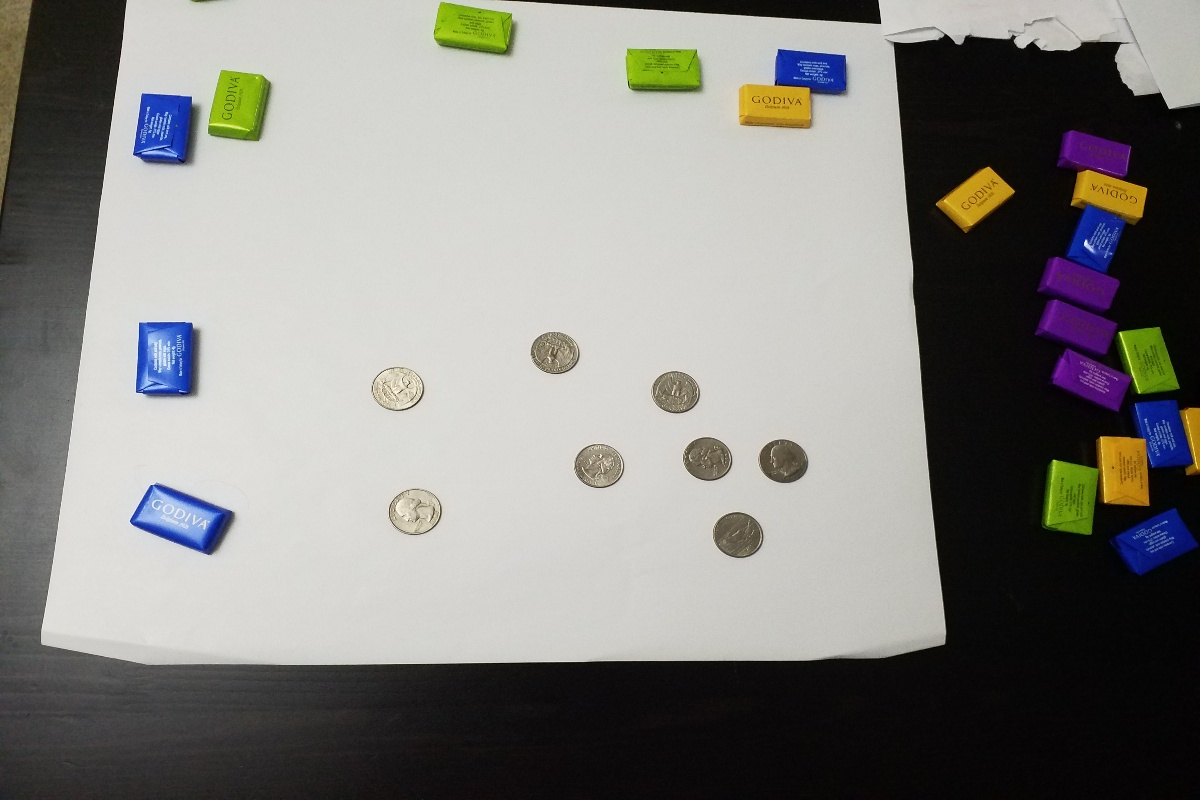chocolate_blue: (119, 477, 240, 563), (127, 312, 200, 404), (133, 87, 198, 169), (770, 41, 850, 98)
chocolate_green: (201, 58, 280, 154), (605, 40, 718, 104), (423, 1, 527, 63)
chocolate_yellow: (732, 82, 816, 132)
coin_quarter: (706, 501, 771, 569), (362, 356, 434, 417), (385, 477, 448, 543), (679, 433, 744, 494), (519, 323, 586, 382), (566, 434, 630, 495), (750, 431, 816, 490), (644, 366, 704, 419)
